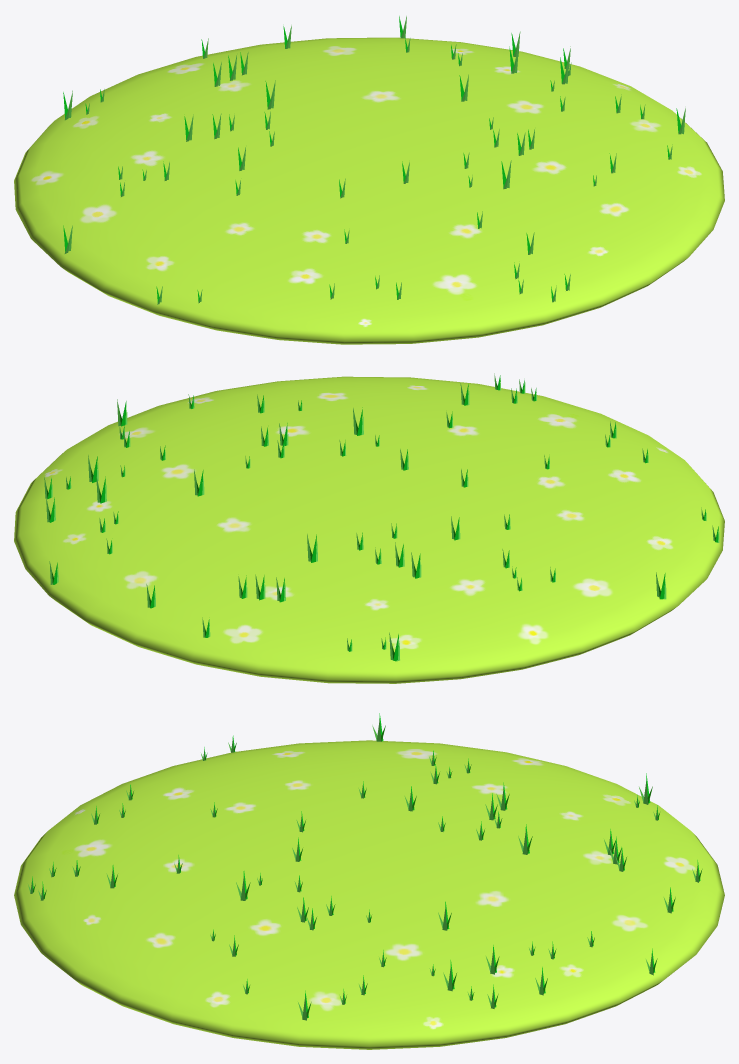
The model's file is suelo-fuente.fbx.
3 renders of one model, top to bottom at view 1: azimuth 30°, elevation 25°; view 2: azimuth 150°, elevation 25°; view 3: azimuth 270°, elevation 25°, orthographic.
Visible parts, largest first — view 1: Suelo; view 2: Suelo; view 3: Suelo.
Part boxes in pixels (x1,y1,x2,y2): Suelo: (14, 37, 724, 344); Suelo: (14, 376, 724, 683); Suelo: (14, 740, 724, 1049).
Bounding box in the file's own units: 1856 × 275 × 1847.
Materials: 4 (1 with a texture image).
